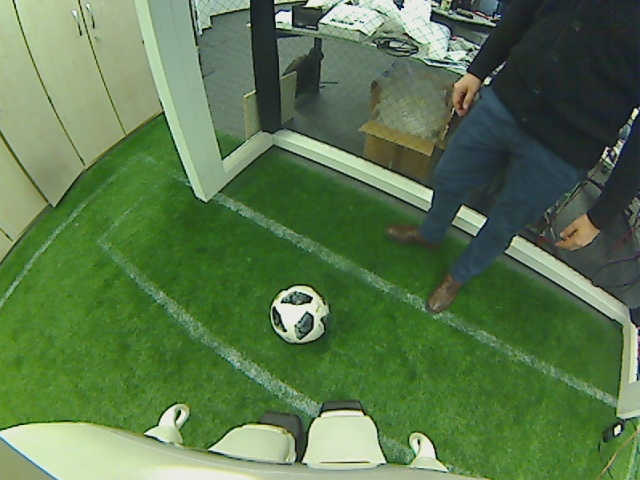ball: (269, 283, 329, 345)
